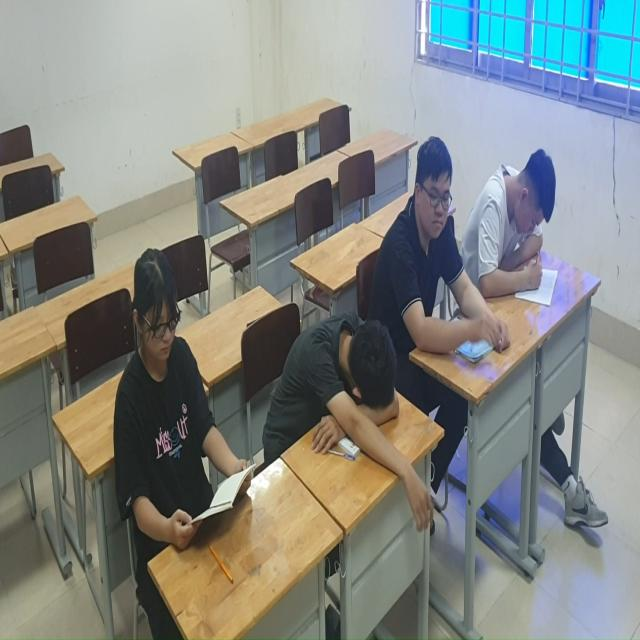read: (109, 244, 253, 572), (391, 135, 488, 353), (483, 147, 566, 308)
sleep: (267, 268, 405, 472)
